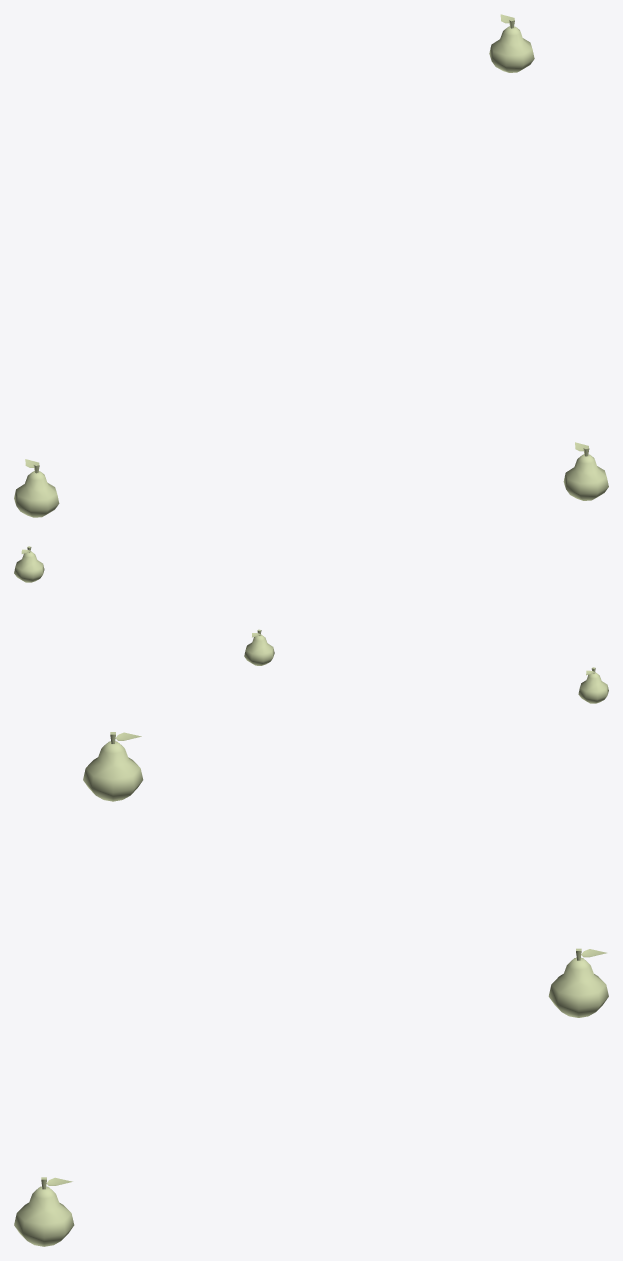
File: crafted-pear-fruits-bud.glb
The picture shows the model from 3 angles, top to bottom: view 1: azimuth 30°, elevation 25°; view 2: azimuth 150°, elevation 25°; view 3: azimuth 270°, elevation 25°; orthographic projection. The views are drawn at different scales.
Visible parts, largest first — view 1: fruit-0, fruit-2, fruit-1; view 2: fruit-0, fruit-2, fruit-1; view 3: fruit-0, fruit-2, fruit-1.
Part boxes in pixels (bbox=[...]): fruit-0: bbox=[14, 459, 59, 517]; fruit-2: bbox=[489, 14, 534, 72]; fruit-1: bbox=[563, 442, 608, 500]; fruit-0: bbox=[578, 667, 608, 703]; fruit-2: bbox=[14, 546, 44, 582]; fruit-1: bbox=[244, 629, 274, 665]; fruit-0: bbox=[83, 732, 143, 801]; fruit-2: bbox=[548, 948, 608, 1017]; fruit-1: bbox=[14, 1177, 74, 1246].
Bounding box in the file's own units: 1.2 × 0.48 × 0.69.
